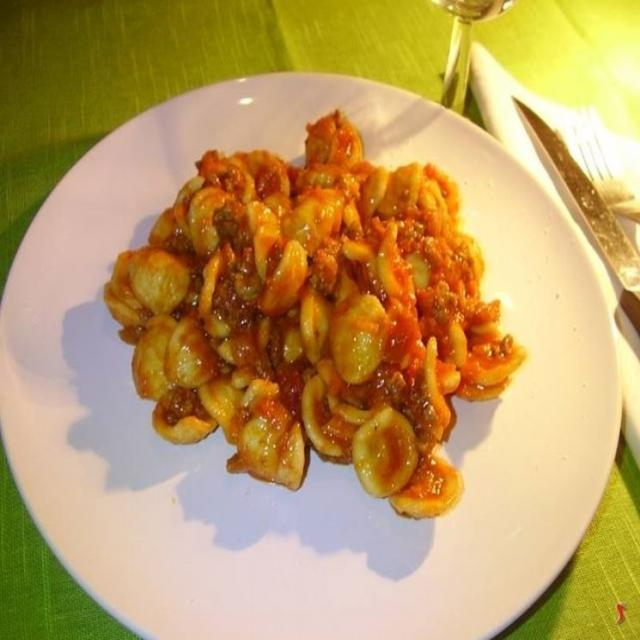Pasta al ragu: (118, 102, 527, 530)
